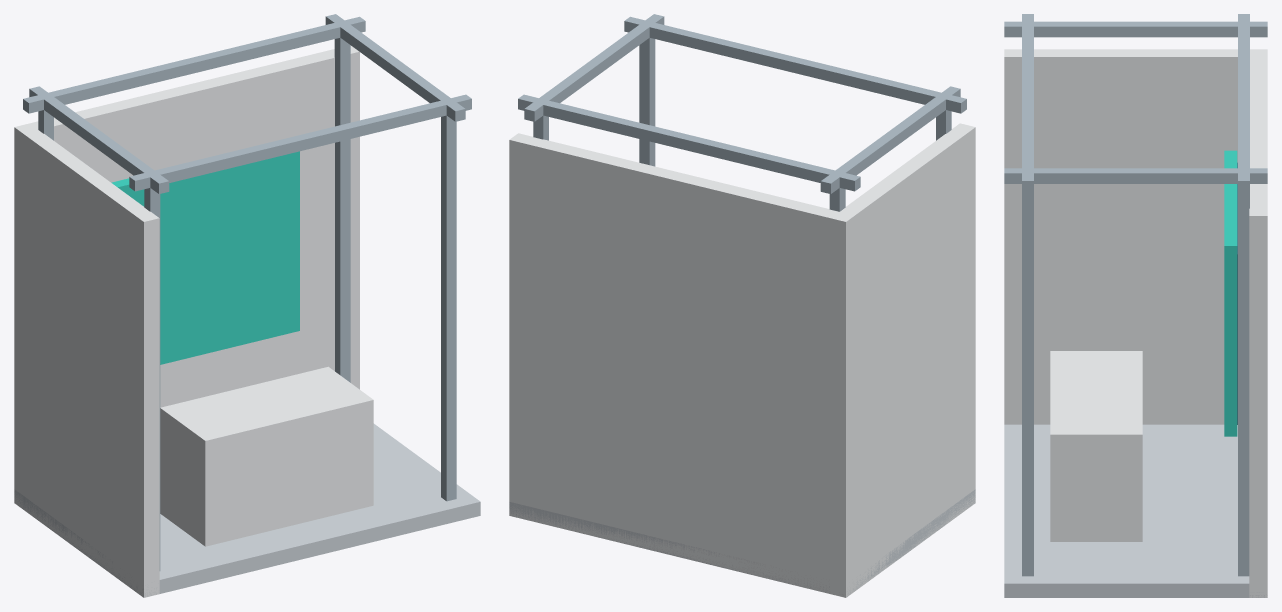
The picture shows the model from 3 angles, left to right: view 1: azimuth 30°, elevation 25°; view 2: azimuth 150°, elevation 25°; view 3: azimuth 270°, elevation 25°; orthographic projection.
Parts seen in each view (by area): view 1: Exhibition Booth Concept; view 2: Exhibition Booth Concept; view 3: Exhibition Booth Concept.
Boxes of the visible parts, x1,y1,x2,y2 form: Exhibition Booth Concept: (14,14,480,597); Exhibition Booth Concept: (509,14,975,597); Exhibition Booth Concept: (1004,14,1267,597).
Bounding box in the file's own units: 3 × 3.49 × 2.
